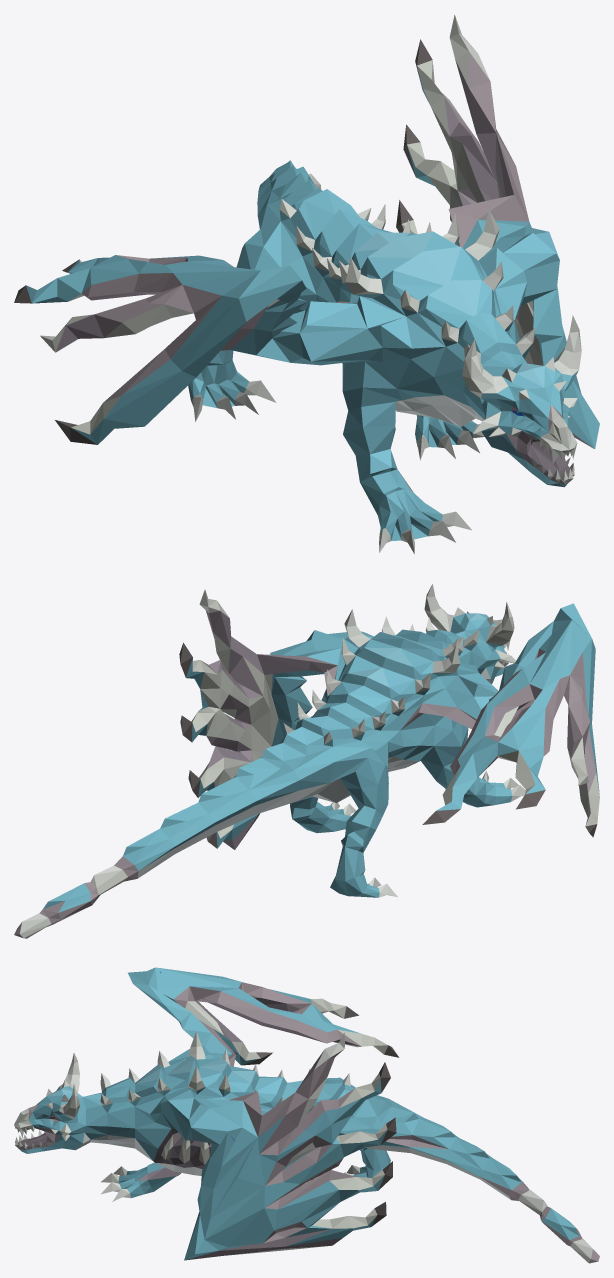
Rendered from vorkath.glb.
3 renders of one model, top to bottom at view 1: azimuth 30°, elevation 25°; view 2: azimuth 150°, elevation 25°; view 3: azimuth 270°, elevation 25°, orthographic. The views are drawn at different scales.
Size of the model in its own units: 762 by 493 by 1172.
Materials: 2 (2 with a texture image).
